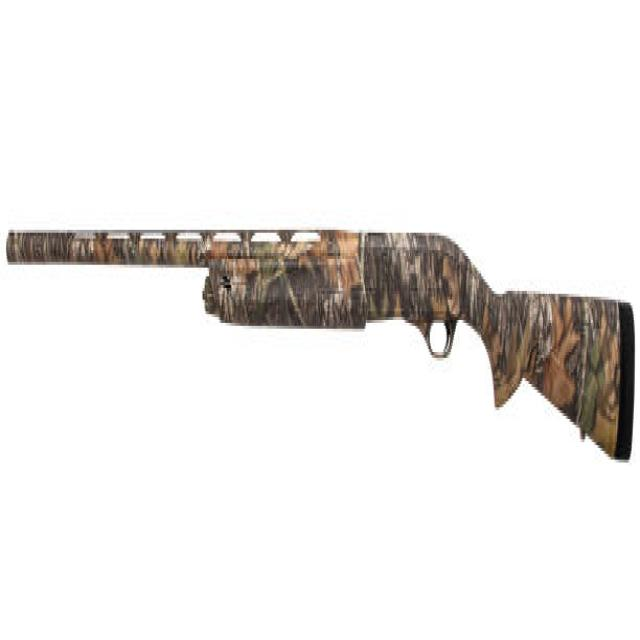rifle: (3, 209, 638, 485)
